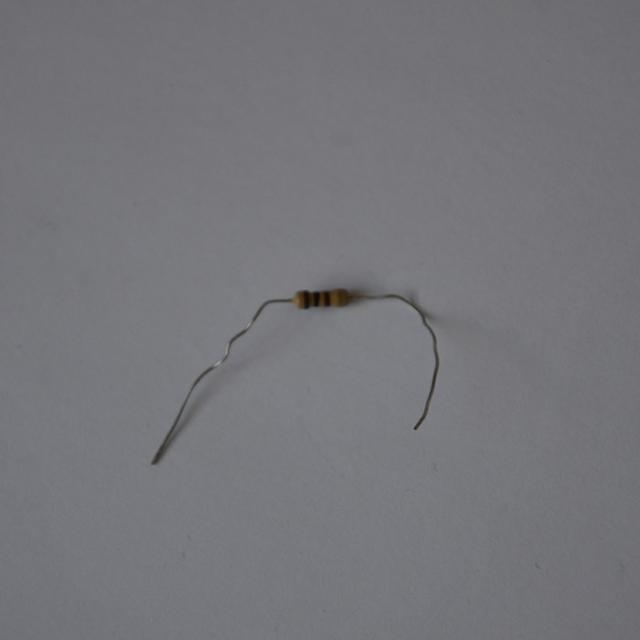Resistor Carbon-Film: (293, 289, 352, 309)
